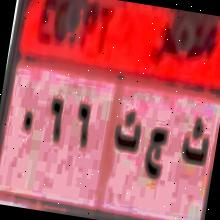0: (14, 102, 42, 144)
6: (66, 98, 98, 154), (41, 88, 69, 152)
jeem: (137, 112, 176, 194)
taa: (107, 103, 150, 161)
thaa: (178, 112, 214, 175)
